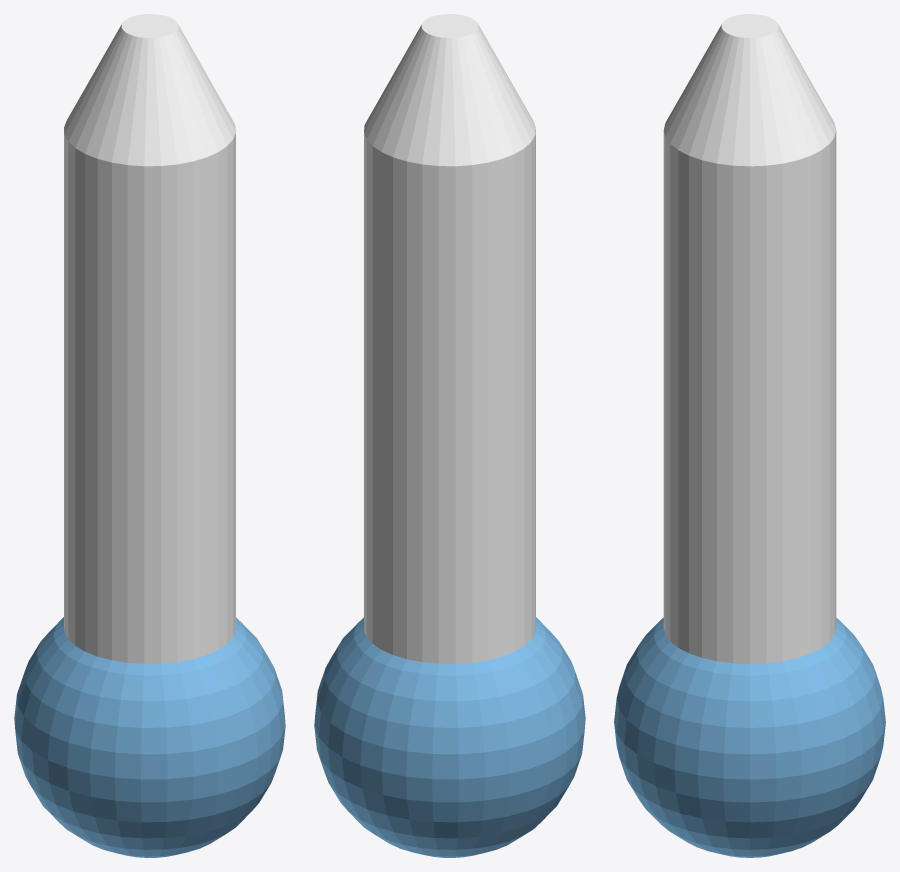
The model's file is pipette.fbx.
3 renders of one model, left to right at view 1: azimuth 30°, elevation 25°; view 2: azimuth 150°, elevation 25°; view 3: azimuth 270°, elevation 25°, orthographic.
Parts seen in each view (by area): view 1: Pipette; view 2: Pipette; view 3: Pipette.
Boxes of the visible parts, <box> form: Pipette: <box>14,14,285,857</box>; Pipette: <box>314,14,585,857</box>; Pipette: <box>614,14,885,857</box>.
Size of the model in its own units: 200 by 665 by 200.
